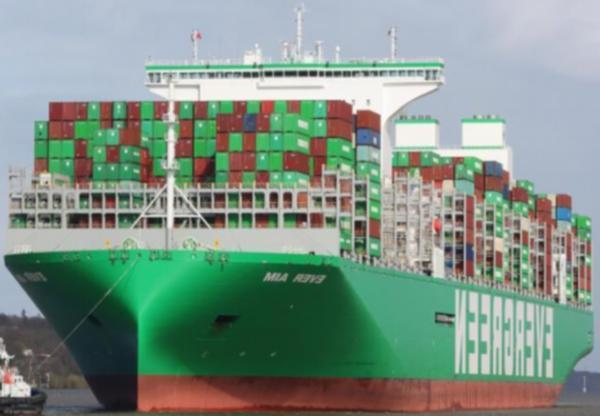Container Ship: (2, 4, 595, 415)
